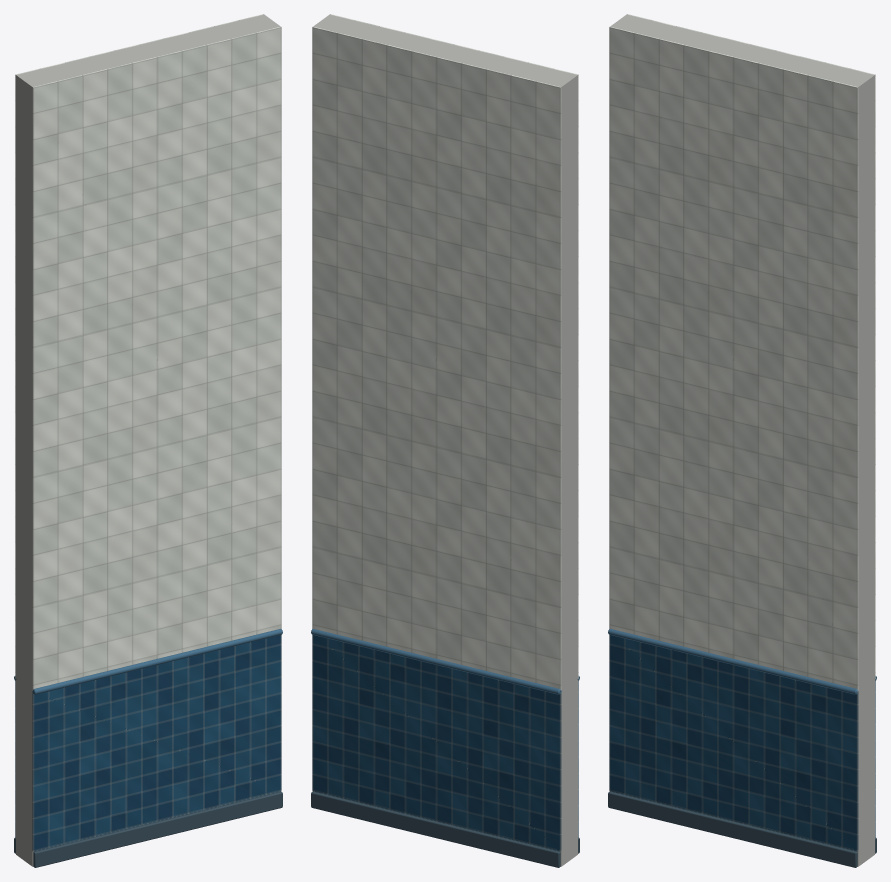
Rendered from tile_wall_module.glb.
3 views of the same model, side by side, from view 1: azimuth 30°, elevation 25°; view 2: azimuth 150°, elevation 25°; view 3: azimuth 330°, elevation 25° (orthographic).
Parts seen in each view (by area): view 1: TileWall; view 2: TileWall; view 3: TileWall.
Boxes of the visible parts, left/top/right/bottom form: TileWall: left=14, top=14, right=282, bottom=867; TileWall: left=311, top=14, right=579, bottom=867; TileWall: left=608, top=14, right=876, bottom=867.
Bounding box in the file's own units: 2 × 6 × 0.2981.
5 materials, 2 textured.
